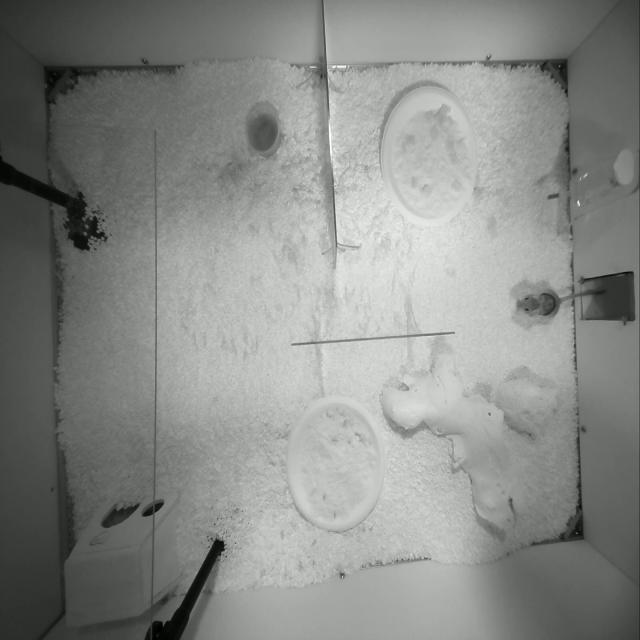adult_front: (516, 290, 606, 318)
